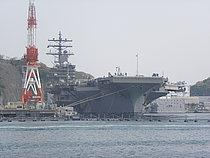MIL_Ship: (48, 30, 176, 116)
